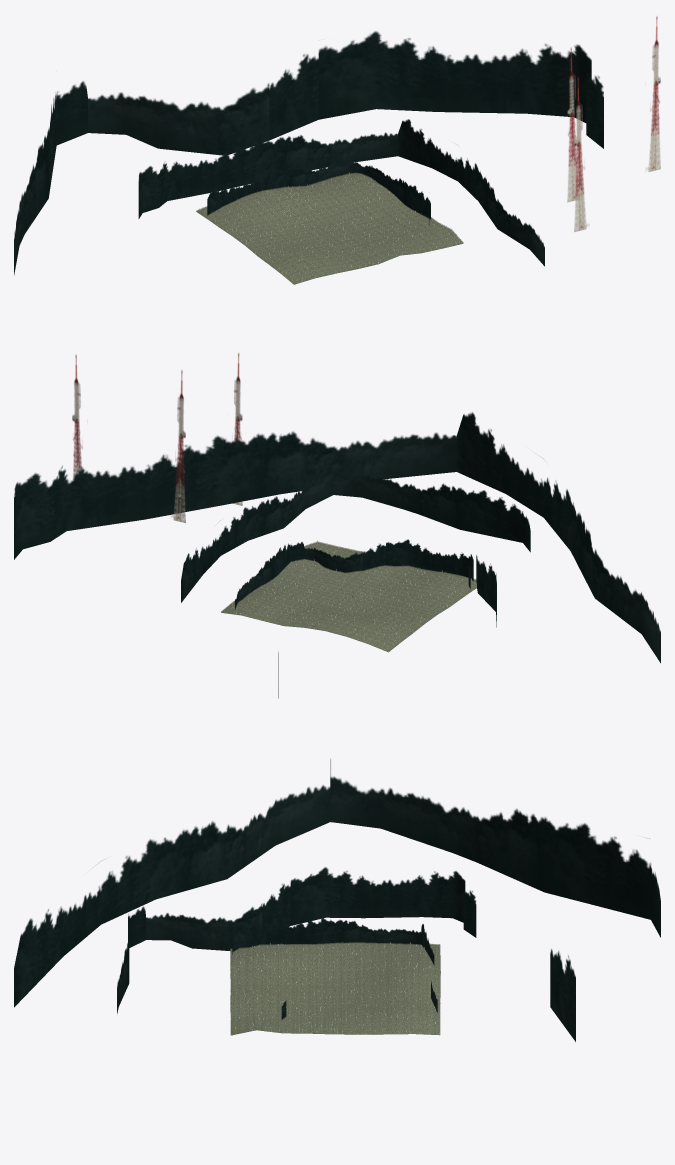
File: here.glb
The picture shows the model from 3 angles, top to bottom: view 1: azimuth 30°, elevation 25°; view 2: azimuth 150°, elevation 25°; view 3: azimuth 270°, elevation 25°; orthographic projection. The views are drawn at different scales.
Visible parts, largest first — view 1: treeline_002, grass_layer, grass, treeline_001, treeline, radio_tower, radio_tower_002, radio_tower_001, lavender; view 2: treeline_002, grass_layer, grass, treeline_001, treeline, radio_tower_001, radio_tower_002, lavender; view 3: treeline_002, grass_layer, grass, treeline_001, treeline, lavender.
Part boxes in pixels (x1=…): treeline_002: x1=14, y1=31, x2=603, y2=275; grass_layer: x1=196, y1=172, x2=463, y2=283; grass: x1=196, y1=173, x2=463, y2=284; treeline_001: x1=138, y1=119, x2=544, y2=266; treeline: x1=207, y1=161, x2=430, y2=224; radio_tower: x1=574, y1=77, x2=589, y2=232; radio_tower_002: x1=645, y1=16, x2=660, y2=171; radio_tower_001: x1=567, y1=47, x2=579, y2=202; lavender: x1=199, y1=172, x2=459, y2=282; treeline_002: x1=14, y1=412, x2=660, y2=698; grass_layer: x1=221, y1=541, x2=476, y2=651; grass: x1=221, y1=542, x2=476, y2=652; treeline_001: x1=181, y1=469, x2=530, y2=627; treeline: x1=235, y1=539, x2=473, y2=609; radio_tower_001: x1=171, y1=370, x2=185, y2=523; radio_tower_002: x1=72, y1=355, x2=82, y2=480; lavender: x1=232, y1=540, x2=476, y2=644; treeline_002: x1=14, y1=759, x2=660, y2=1041; grass_layer: x1=230, y1=942, x2=440, y2=1034; grass: x1=230, y1=943, x2=440, y2=1035; treeline_001: x1=117, y1=867, x2=476, y2=1013; treeline: x1=232, y1=918, x2=437, y2=1019; lavender: x1=230, y1=942, x2=440, y2=1033.
Bounding box in the file's own units: 465 × 113 × 395.
Materials: 7 (6 with a texture image).
